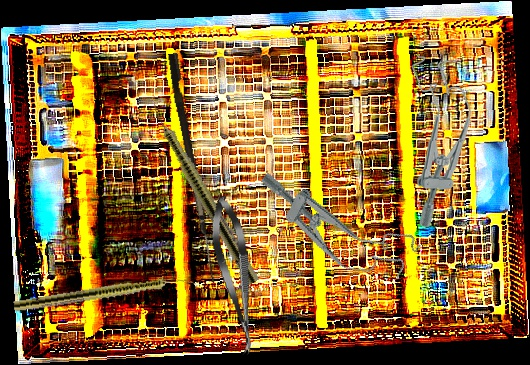Handpiece: (142, 94, 262, 286), (13, 271, 197, 315)
Hook Surgical: (163, 52, 226, 284)
Micro Scissor: (204, 193, 266, 358)
Speculum: (243, 161, 424, 295), (406, 53, 473, 229)
